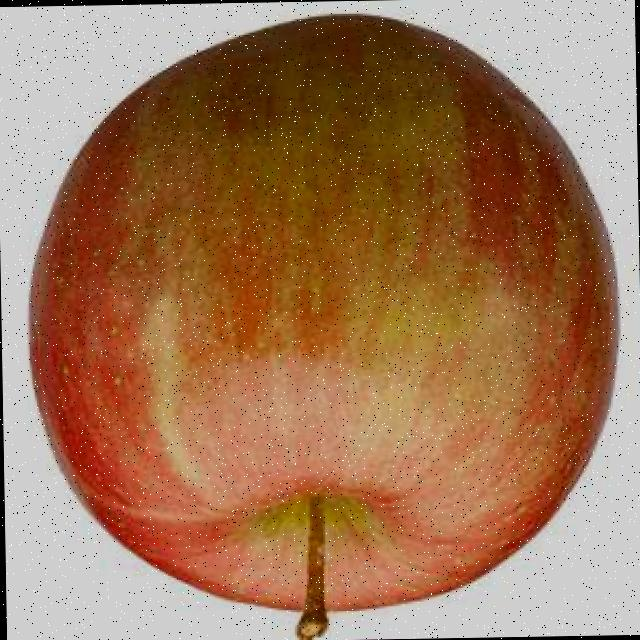apple: (19, 9, 622, 640)
